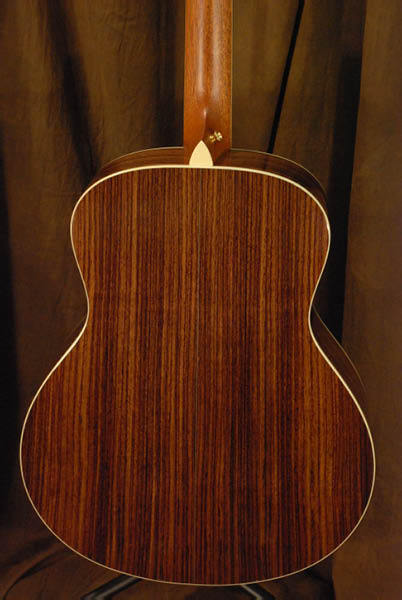guitar: (19, 1, 377, 587)
